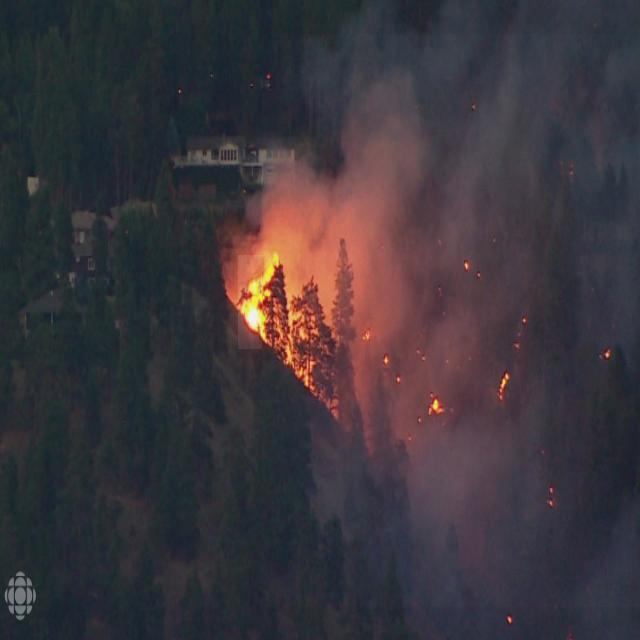Fire: (238, 256, 289, 350)
Smoke: (262, 34, 640, 607)
